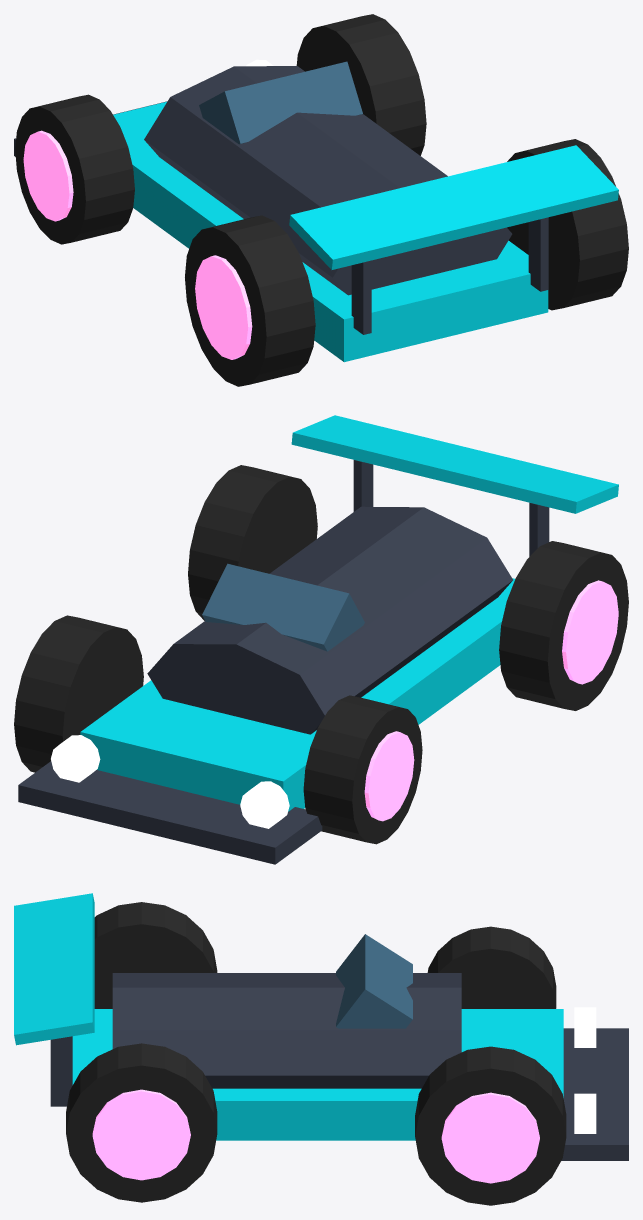
The model's file is cyber_kart.glb.
3 renders of one model, top to bottom at view 1: azimuth 30°, elevation 25°; view 2: azimuth 150°, elevation 25°; view 3: azimuth 270°, elevation 25°, orthographic. The views are drawn at different scales.
Parts seen in each view (by area): view 1: CockpitBody, Chassis, RearWing, Tire_RL, Tire_FL, Tire_FR, Tire_RR, Windshield, Rim_RL, Rim_FL, WingStrut_L, WingStrut_R; view 2: CockpitBody, Chassis, FrontSplitter, Tire_RL, Tire_FR, RearWing, Tire_RR, Tire_FL, Windshield, Rim_RL, Rim_FL, Headlight_L (+3 smaller); view 3: CockpitBody, Chassis, Tire_FR, Tire_RR, RearWing, Tire_RL, Tire_FL, FrontSplitter, Rim_FR, Rim_RR, Windshield, WingStrut_R (+2 smaller).
Part boxes in pixels (x1,y1,x2,y2): CockpitBody: (144, 66, 512, 295); Chassis: (113, 101, 548, 362); RearWing: (289, 145, 618, 269); Tire_RL: (185, 215, 315, 386); Tire_FL: (15, 94, 134, 244); Tire_FR: (296, 14, 426, 155); Tire_RR: (507, 139, 628, 310); Windshield: (199, 61, 362, 144); Rim_RL: (195, 255, 252, 359); Rim_FL: (23, 130, 73, 221); WingStrut_L: (351, 260, 371, 334); WingStrut_R: (528, 217, 548, 291); CockpitBody: (147, 506, 512, 734); Chassis: (80, 578, 515, 811); FrontSplitter: (18, 761, 322, 864); Tire_RL: (499, 541, 628, 710); Tire_FR: (14, 615, 143, 772); RearWing: (291, 415, 618, 513); Tire_RR: (188, 465, 317, 620); Tire_FL: (303, 695, 422, 844); Windshield: (202, 563, 364, 651); Rim_RL: (562, 580, 618, 684); Rim_FL: (364, 731, 414, 821); Headlight_L: (240, 781, 289, 828); CockpitBody: (112, 973, 461, 1088); Chassis: (72, 1009, 563, 1140); Tire_FR: (415, 1046, 566, 1205); Tire_RR: (66, 1043, 217, 1202); RearWing: (14, 893, 94, 1045); Tire_RL: (94, 902, 217, 1008); Tire_FL: (427, 926, 556, 1008); FrontSplitter: (561, 1028, 628, 1160); Rim_FR: (441, 1092, 539, 1183); Rim_RR: (92, 1089, 190, 1180); Windshield: (336, 934, 412, 1028); WingStrut_R: (50, 1036, 72, 1106).
Size of the model in its own units: 2.72 by 1.31 by 4.23.
